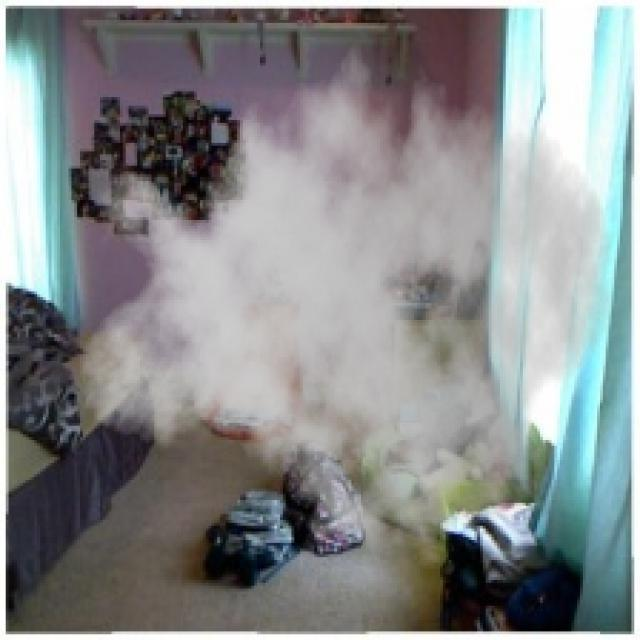Smoke: (77, 20, 614, 583)
